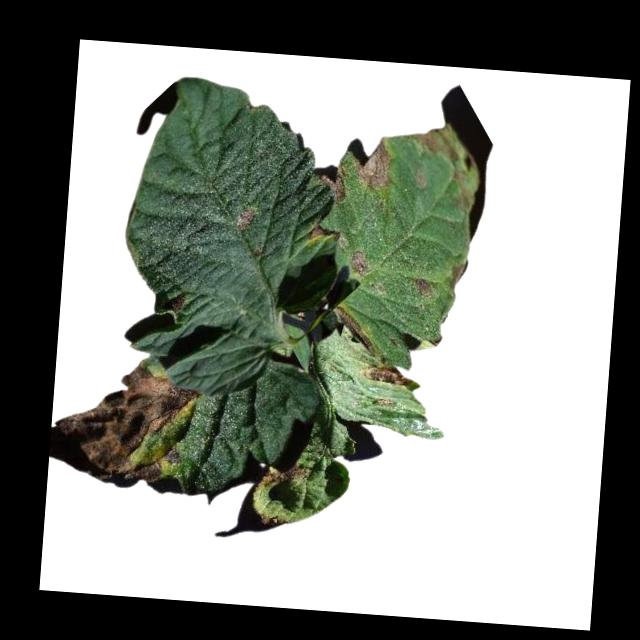Early_blight: (51, 358, 205, 485), (355, 136, 396, 193), (333, 303, 376, 352), (257, 462, 310, 493), (316, 160, 349, 206), (362, 363, 414, 390), (447, 259, 468, 292), (233, 206, 256, 233), (347, 251, 368, 275), (310, 226, 337, 243), (260, 512, 288, 527), (413, 276, 432, 298), (168, 293, 185, 315)
